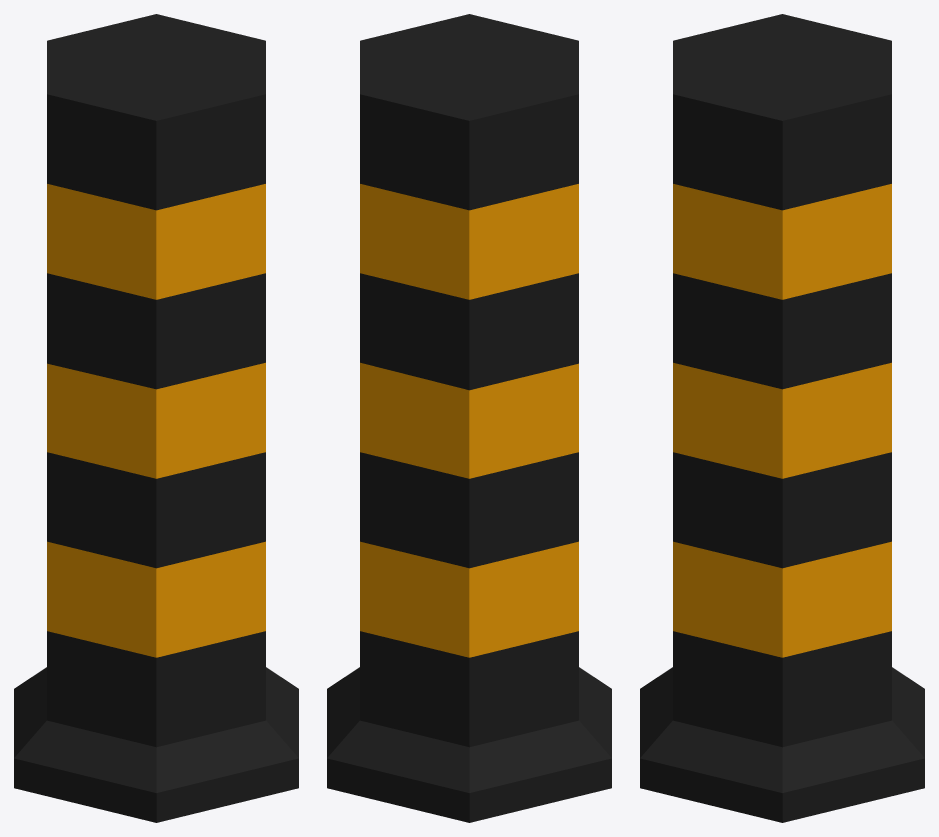
3 renders of one model, left to right at view 1: azimuth 30°, elevation 25°; view 2: azimuth 150°, elevation 25°; view 3: azimuth 270°, elevation 25°, orthographic.
Parts seen in each view (by area): view 1: _(Loose Entity); view 2: _(Loose Entity); view 3: _(Loose Entity).
Boxes of the visible parts, x1,y1,x2,y2 form: _(Loose Entity): (14,14,298,822); _(Loose Entity): (327,14,611,822); _(Loose Entity): (640,14,924,822).
Bounding box in the file's own units: 50 × 115 × 43.3.
